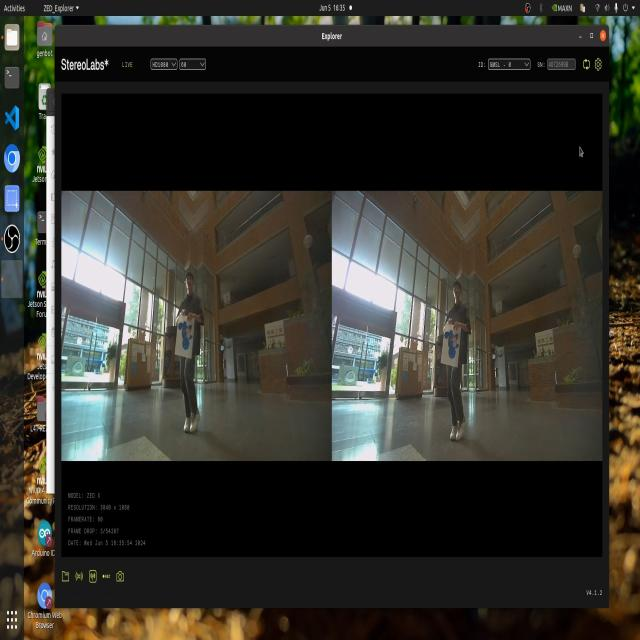blue: (444, 321, 462, 365), (172, 323, 193, 357)
